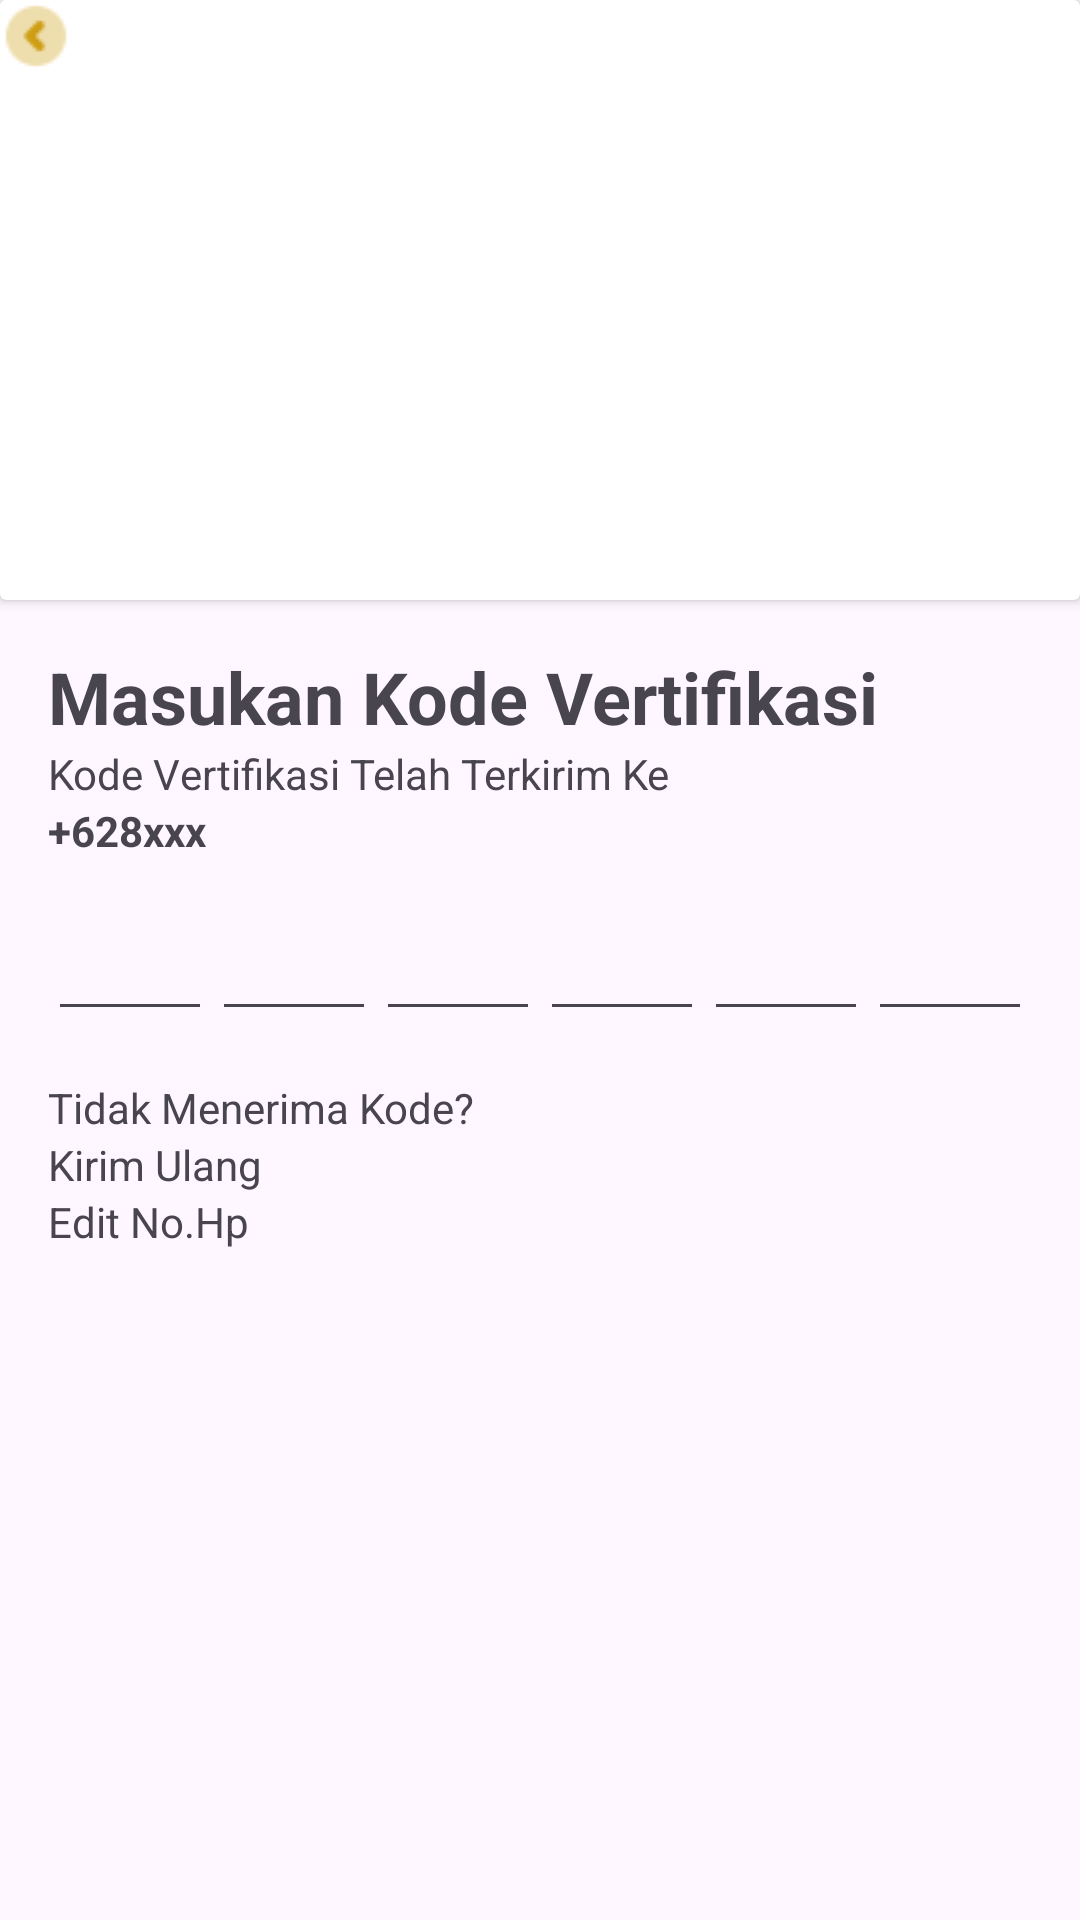

Screen size 1080w x 1920h. Icon name, then its box in pixels as (x1, y1, x2, y2):
arrow left: (0, 0, 67, 67)
